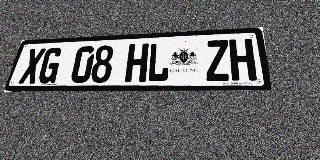0: (69, 46, 96, 83)
8: (89, 45, 115, 83)
G: (36, 47, 64, 84)
H: (229, 39, 257, 81), (124, 43, 149, 82)
L: (146, 42, 170, 82)
X: (18, 48, 46, 84)
Z: (205, 40, 231, 81)
